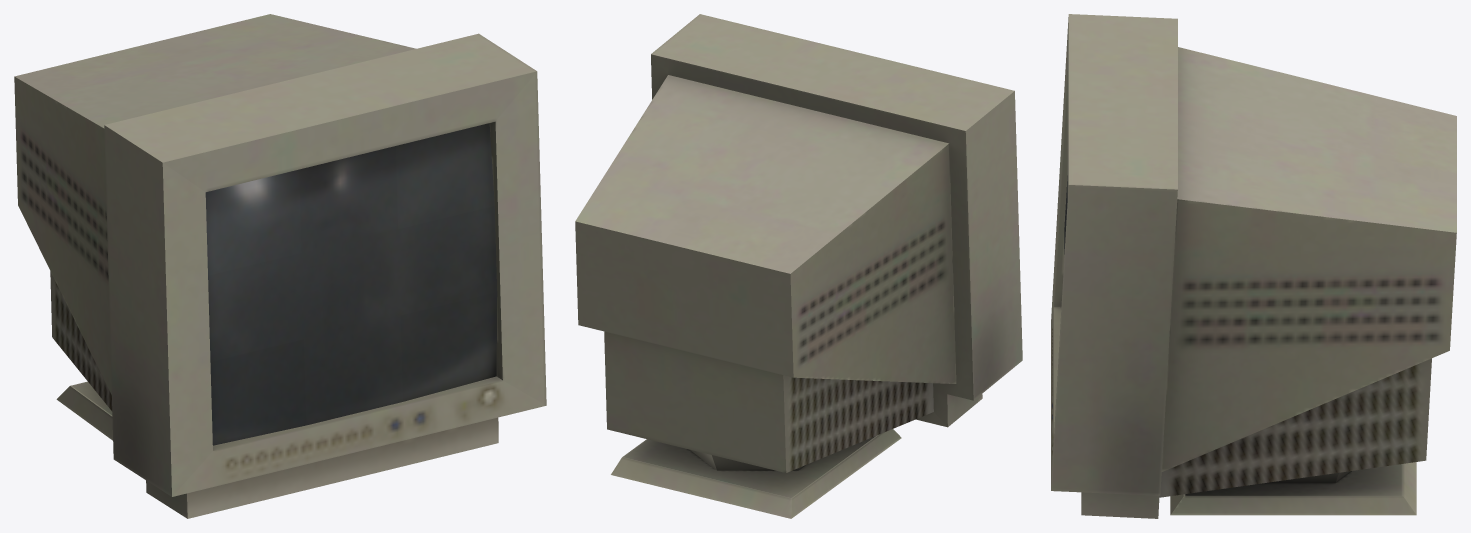
File: Computer Monitor.fbx
3 views of the same model, side by side, from view 1: azimuth 30°, elevation 25°; view 2: azimuth 150°, elevation 25°; view 3: azimuth 270°, elevation 25° (orthographic). The views are drawn at different scales.
Parts seen in each view (by area): view 1: PC Monitor; view 2: PC Monitor; view 3: PC Monitor.
Boxes of the visible parts, x1,y1,x2,y2 form: PC Monitor: (14, 14, 546, 518); PC Monitor: (575, 14, 1022, 518); PC Monitor: (1051, 14, 1456, 518).
Bounding box in the file's own units: 61.99 × 62.07 × 62.21.
